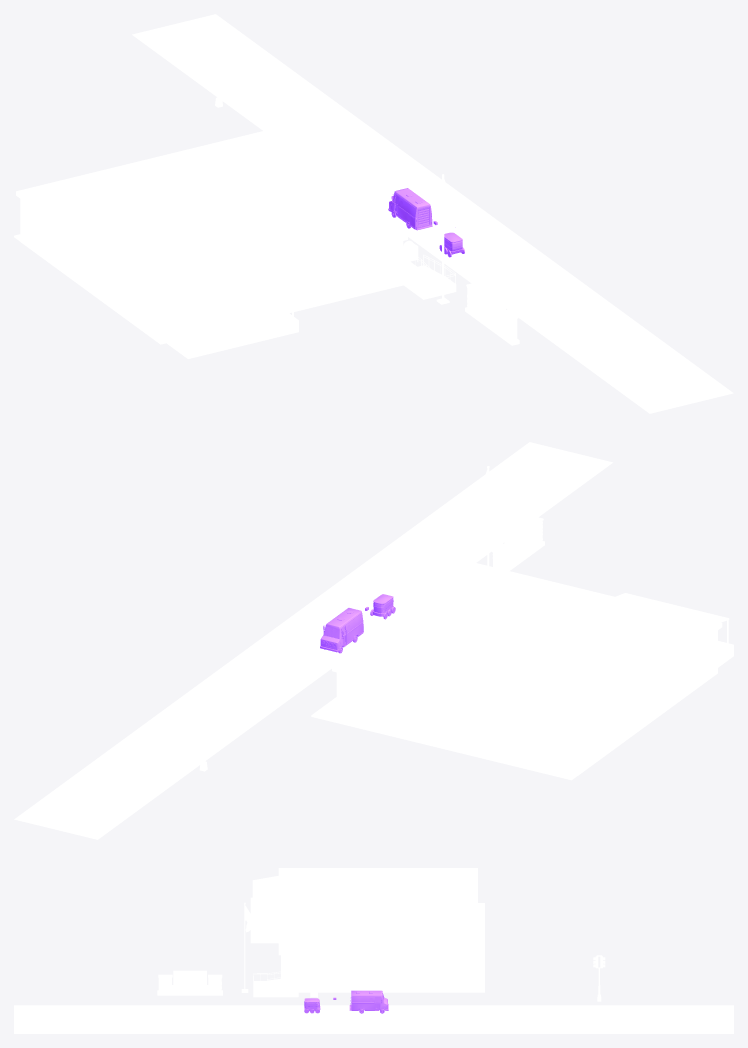
Rendered from delivery-c1-d2c-draco.gltf.
The picture shows the model from 3 angles, top to bottom: view 1: azimuth 30°, elevation 25°; view 2: azimuth 150°, elevation 25°; view 3: azimuth 270°, elevation 25°; orthographic projection. The views are drawn at different scales.
Parts seen in each view (by area): view 1: house, road, side ramp, side roof, info, aircon, ramp, Chassis.001, cond pipes; view 2: house, road, ramp, aircon, info, Chassis.001, cond pipes, side roof; view 3: house, road, ramp, info, side roof, side ramp, cond pipes, Chassis.001, ramp frame, aircon.
Boxes of the visible parts, box(x1,y1,x2,y2) form: house: box(16, 130, 407, 344); road: box(132, 14, 733, 413); side ramp: box(166, 304, 298, 358); side roof: box(171, 272, 294, 345); info: box(465, 283, 519, 345); aircon: box(144, 231, 222, 274); ramp: box(14, 234, 456, 299); Chassis.001: box(388, 188, 432, 230); cond pipes: box(103, 204, 207, 255); house: box(332, 562, 722, 775); road: box(14, 442, 612, 839); ramp: box(311, 697, 578, 780); aircon: box(592, 606, 669, 653); info: box(492, 517, 544, 570); Chassis.001: box(320, 608, 363, 652); cond pipes: box(558, 625, 647, 688); side roof: box(615, 593, 729, 644); house: box(278, 868, 477, 985); road: box(14, 1005, 733, 1033); ramp: box(253, 903, 484, 997); info: box(157, 970, 222, 995); side roof: box(252, 876, 278, 933); side ramp: box(250, 897, 278, 943); cond pipes: box(318, 881, 422, 902); Chassis.001: box(349, 990, 388, 1010); ramp frame: box(253, 971, 370, 994); aircon: box(304, 872, 354, 896).
Bounding box in the file's own units: 613 × 195 × 1433.
